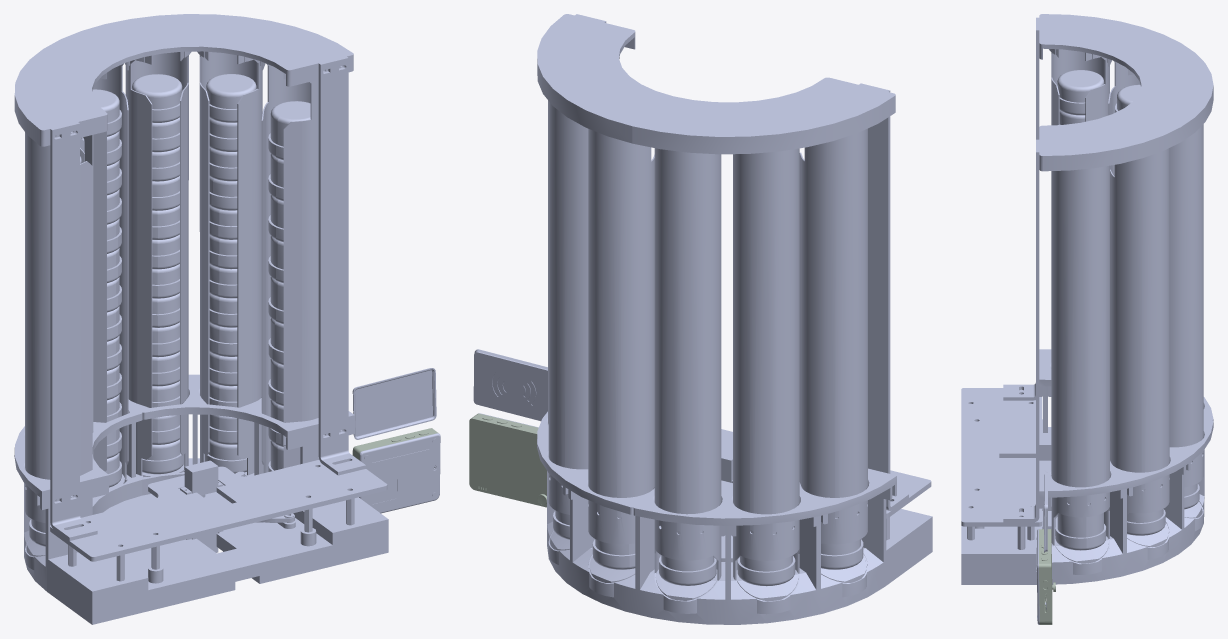
Rendered from machine-assembly-v1.glb.
3 views of the same model, side by side, from view 1: azimuth 30°, elevation 25°; view 2: azimuth 150°, elevation 25°; view 3: azimuth 270°, elevation 25° (orthographic). The views are drawn at different scales.
Visible parts, largest first — view 1: 折弯XIAO桶 (×5), 侧向固定 (×2), 下固定板, XIAO_XIAO薄款 (×27), 上约束板, 折弯XIAO桶_厚款XIAO, 上舵机固定板, XIAO_XIAO厚款 (×7), RFID cap, Component3(Mirror)-5, 中间约束板, 中间约束板_L (+3 smaller); view 2: 折弯XIAO桶 (×5), 上约束板, 下固定板, 侧向固定, wio terminal (×3), XIAO_XIAO薄款 (×4), 中间约束板_L, RFID cap, 中间约束板, 上舵机固定板; view 3: 折弯XIAO桶 (×4), 折弯XIAO桶_厚款XIAO, 上约束板, 下固定板, 上舵机固定板, 中间约束板, 侧向固定 (×2), XIAO_XIAO薄款 (×3), XIAO_XIAO厚款, wio terminal, 中间约束板_L, 飞特FT90M.
Boxes of the visible parts, x1,y1,x2,y2 form: 折弯XIAO桶 (×5): (25, 51, 262, 569); 侧向固定 (×2): (50, 56, 365, 540); 下固定板: (24, 414, 388, 624); XIAO_XIAO薄款 (×27): (92, 74, 256, 474); 上约束板: (14, 14, 353, 146); 折弯XIAO桶_厚款XIAO: (261, 62, 318, 472); 上舵机固定板: (50, 460, 387, 561); XIAO_XIAO厚款 (×7): (268, 101, 310, 405); RFID cap: (352, 368, 436, 439); Component3(Mirror)-5: (359, 433, 440, 513); 中间约束板: (128, 374, 354, 449); 中间约束板_L: (14, 402, 142, 509); 折弯XIAO桶 (×5): (548, 101, 867, 614); 上约束板: (537, 14, 895, 154); 下固定板: (547, 471, 932, 624); 侧向固定: (859, 83, 908, 510); wio terminal (×3): (469, 413, 546, 507); XIAO_XIAO薄款 (×4): (592, 539, 863, 586); 中间约束板_L: (633, 468, 896, 536); RFID cap: (473, 349, 547, 421); 中间约束板: (537, 411, 654, 514); 上舵机固定板: (721, 429, 931, 518); 折弯XIAO桶 (×4): (1051, 49, 1203, 559); 折弯XIAO桶_厚款XIAO: (1051, 165, 1109, 574); 上约束板: (1039, 14, 1213, 171); 下固定板: (961, 386, 1204, 584); 上舵机固定板: (961, 388, 1042, 526); 中间约束板: (1039, 420, 1213, 508); 侧向固定 (×2): (1003, 17, 1039, 522); XIAO_XIAO薄款 (×3): (1057, 70, 1165, 535); XIAO_XIAO厚款: (1055, 512, 1106, 550); wio terminal: (1039, 529, 1052, 624); 中间约束板_L: (1039, 349, 1213, 420); 飞特FT90M: (1039, 433, 1051, 460).
Bounding box in the file's own units: 0.3563 × 0.3975 × 0.21.
